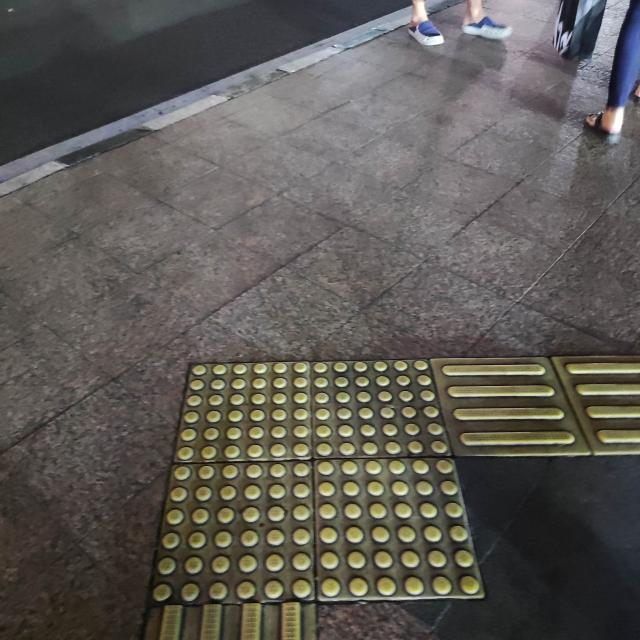kanan: (127, 317, 640, 640)
